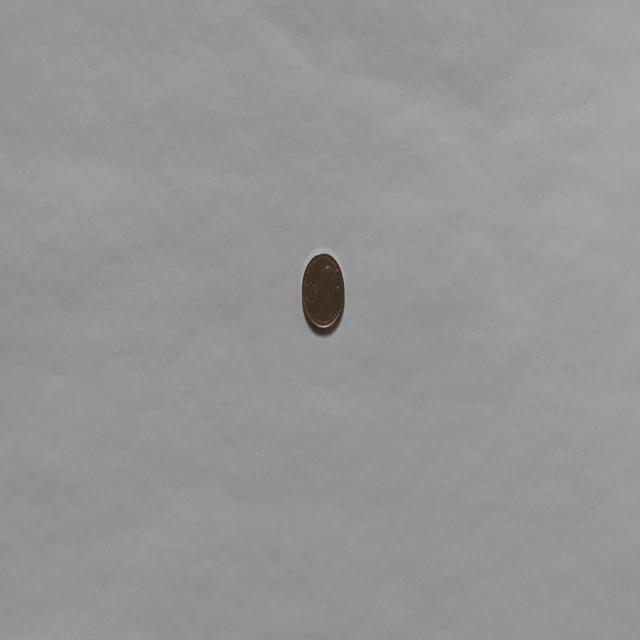seribu rupiah koin: (300, 248, 345, 334)
